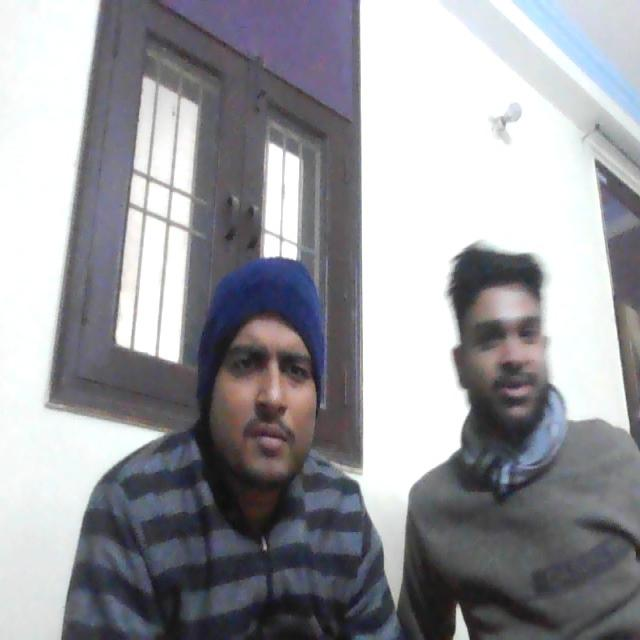real: (201, 267, 323, 497), (456, 242, 558, 434)
